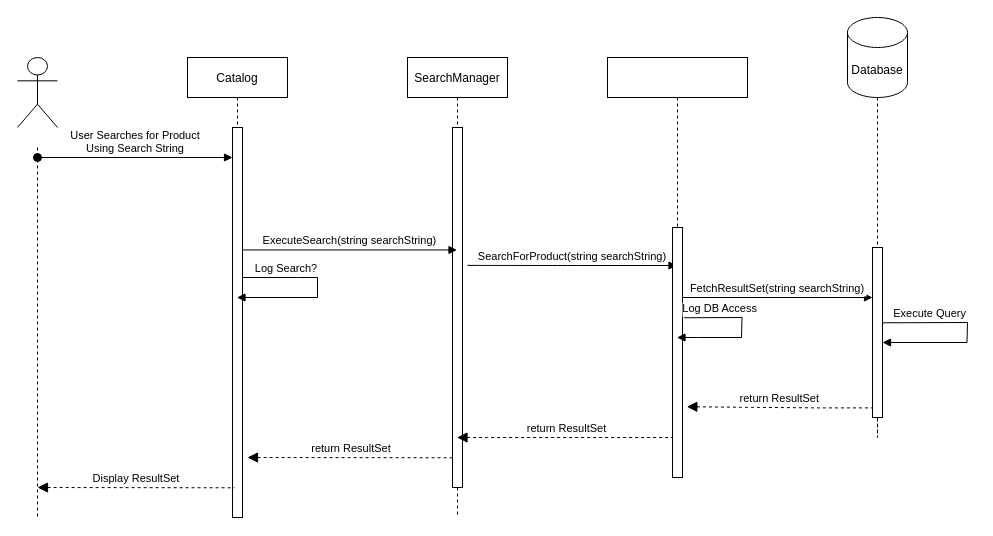
This 993x536 diagram has some shape labels left out. Each missing label, with the centre of its shape:
"Actor" belongs at (37,92).
"SearchManagerGateway" belongs at (677,267).
